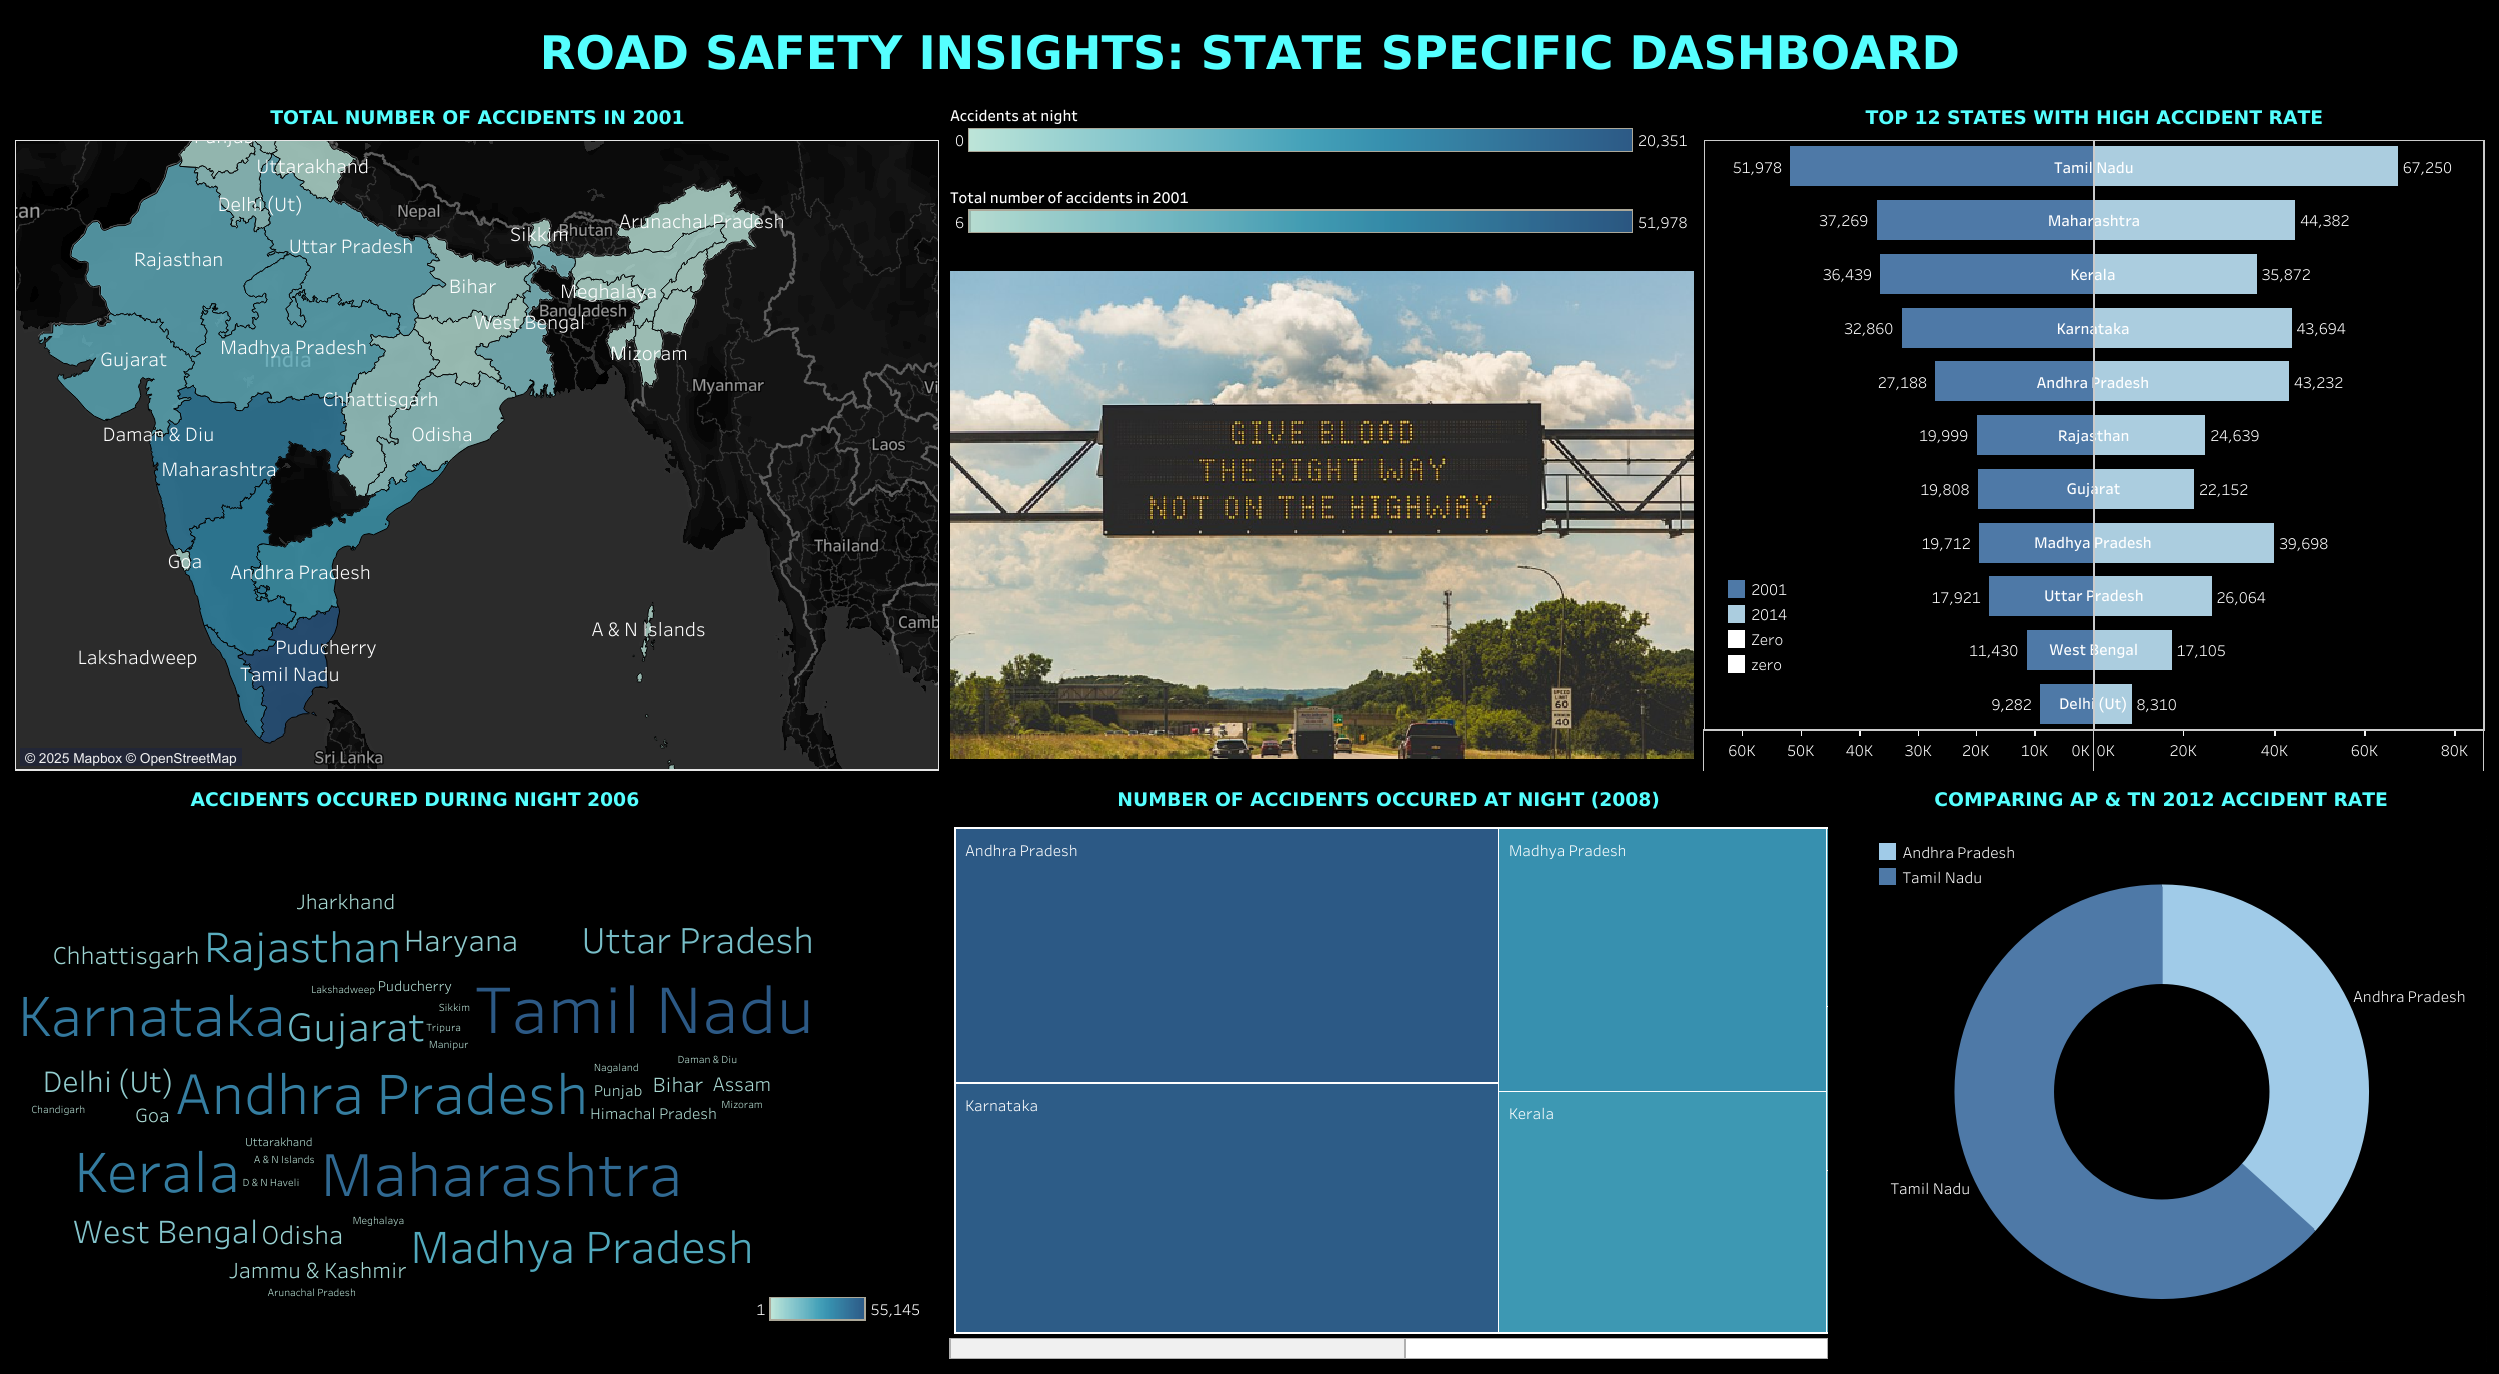

The page's visual inventory and layout, read from the dashboard file:
{"tool":"tableau","page":{"name":"Road safety insights: State specific dashboard 1","canvas":[2000,1100],"ordinal":0},"visuals":[{"type":"title","box":[8,8,1984,67]},{"type":"worksheet","title":"Total number of accidents in 2001","mark":"Automatic","box":[8,75,748.3,546.4]},{"type":"legend","title":"Number of accidents occured at night 2008","param":"[federated.1ig8oqc03vf90n1d5i8qo0p3xuw6].[sum:Calculation_159033379585851392:qk]","box":[756.3,75,603.1,64.5]},{"type":"worksheet","title":"Top 12 states with high accident rate","mark":"Automatic","rows":["STATE/UT"],"cols":["Calculation_881579644496896000","Calculation_881579644506062863","Calculation_881579644503429133","Calculation_881579644509618194"],"box":[1359.5,75,632.5,546]},{"type":"legend","title":"Total number of accidents in 2001","param":"[federated.1ig8oqc03vf90n1d5i8qo0p3xuw6].[sum:Calculation_881579644496896000:qk]","box":[756.3,139.5,603.1,64.5]},{"type":"image","param":"Image/dashboard pic.jpg","box":[756.3,204,603.1,417]},{"type":"legend","title":"Top 12 states with high accident rate","param":"[federated.1ig8oqc03vf90n1d5i8qo0p3xuw6].[:Measure Names]","box":[1379,461,93,95]},{"type":"worksheet","title":"Number of accidents occured at night 2008","mark":"Automatic","box":[756.3,621,709.6,471]},{"type":"worksheet","title":"Comparing AP & TN 2012 accident rate","mark":"Pie","rows":["Calculation_881579644509491217","Calculation_881579644509491217"],"box":[1466,621,526,471]},{"type":"worksheet","title":"Accidents occured during night 2006","mark":"Text","box":[8,621.4,748.3,470.6]},{"type":"legend","title":"Comparing AP & TN 2012 accident rate","param":"[federated.1ig8oqc03vf90n1d5i8qo0p3xuw6].[none:STATE/UT:nk]","box":[1500,671,140,42]},{"type":"legend","title":"Accidents occured during night 2006","param":"[federated.1ig8oqc03vf90n1d5i8qo0p3xuw6].[sum:Calculation_881579644502978565:qk]","box":[601,1034,140,49]}]}

Visuals, with their boxes in screenshot pixels (x1, y1, x2, y2), scaled from the page's 2000x1100 canvas onto the 2499x1374 screenshot:
title: pyautogui.locateOnScreen(10, 10, 2489, 94)
"Total number of accidents in 2001" worksheet: pyautogui.locateOnScreen(10, 94, 945, 776)
"Number of accidents occured at night 2008" legend: pyautogui.locateOnScreen(945, 94, 1699, 174)
"Top 12 states with high accident rate" worksheet: pyautogui.locateOnScreen(1699, 94, 2489, 776)
"Total number of accidents in 2001" legend: pyautogui.locateOnScreen(945, 174, 1699, 255)
image: pyautogui.locateOnScreen(945, 255, 1699, 776)
"Top 12 states with high accident rate" legend: pyautogui.locateOnScreen(1723, 576, 1839, 694)
"Number of accidents occured at night 2008" worksheet: pyautogui.locateOnScreen(945, 776, 1832, 1364)
"Comparing AP & TN 2012 accident rate" worksheet (Pie marks): pyautogui.locateOnScreen(1832, 776, 2489, 1364)
"Accidents occured during night 2006" worksheet (Text marks): pyautogui.locateOnScreen(10, 776, 945, 1364)
"Comparing AP & TN 2012 accident rate" legend: pyautogui.locateOnScreen(1874, 838, 2049, 891)
"Accidents occured during night 2006" legend: pyautogui.locateOnScreen(751, 1292, 926, 1353)
